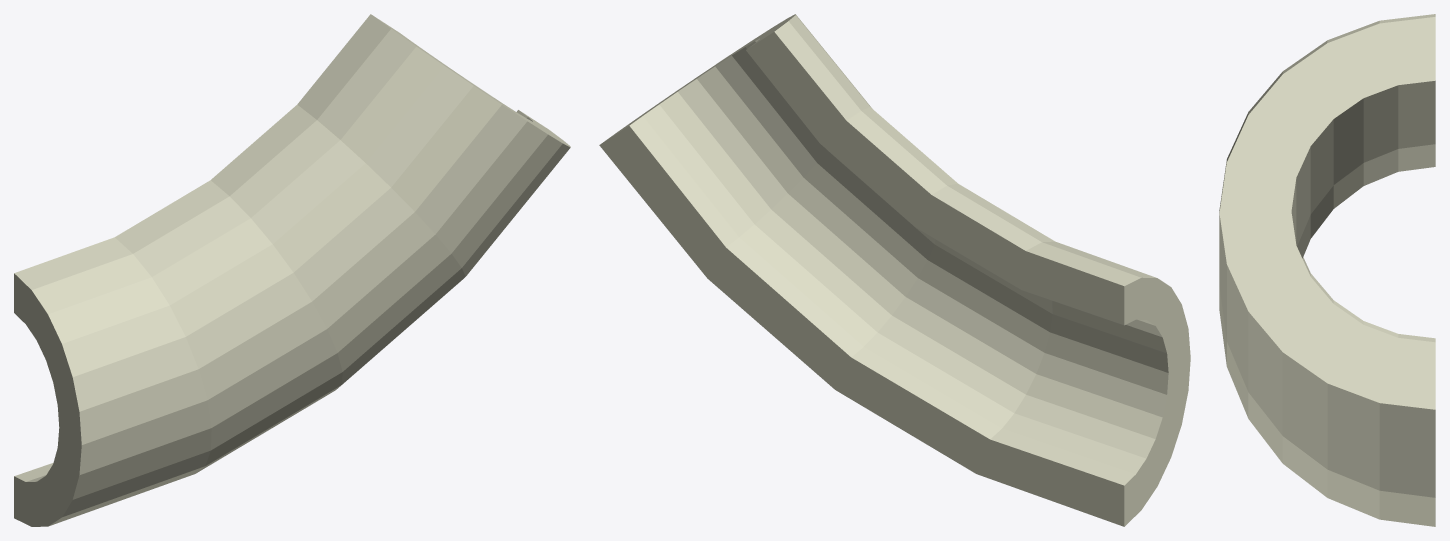
File: section_276.obj
The picture shows the model from 3 angles, left to right: view 1: azimuth 30°, elevation 25°; view 2: azimuth 150°, elevation 25°; view 3: azimuth 270°, elevation 25°; orthographic projection. The views are drawn at different scales.
Size of the model in its own units: 13.7 by 10.22 by 3.
